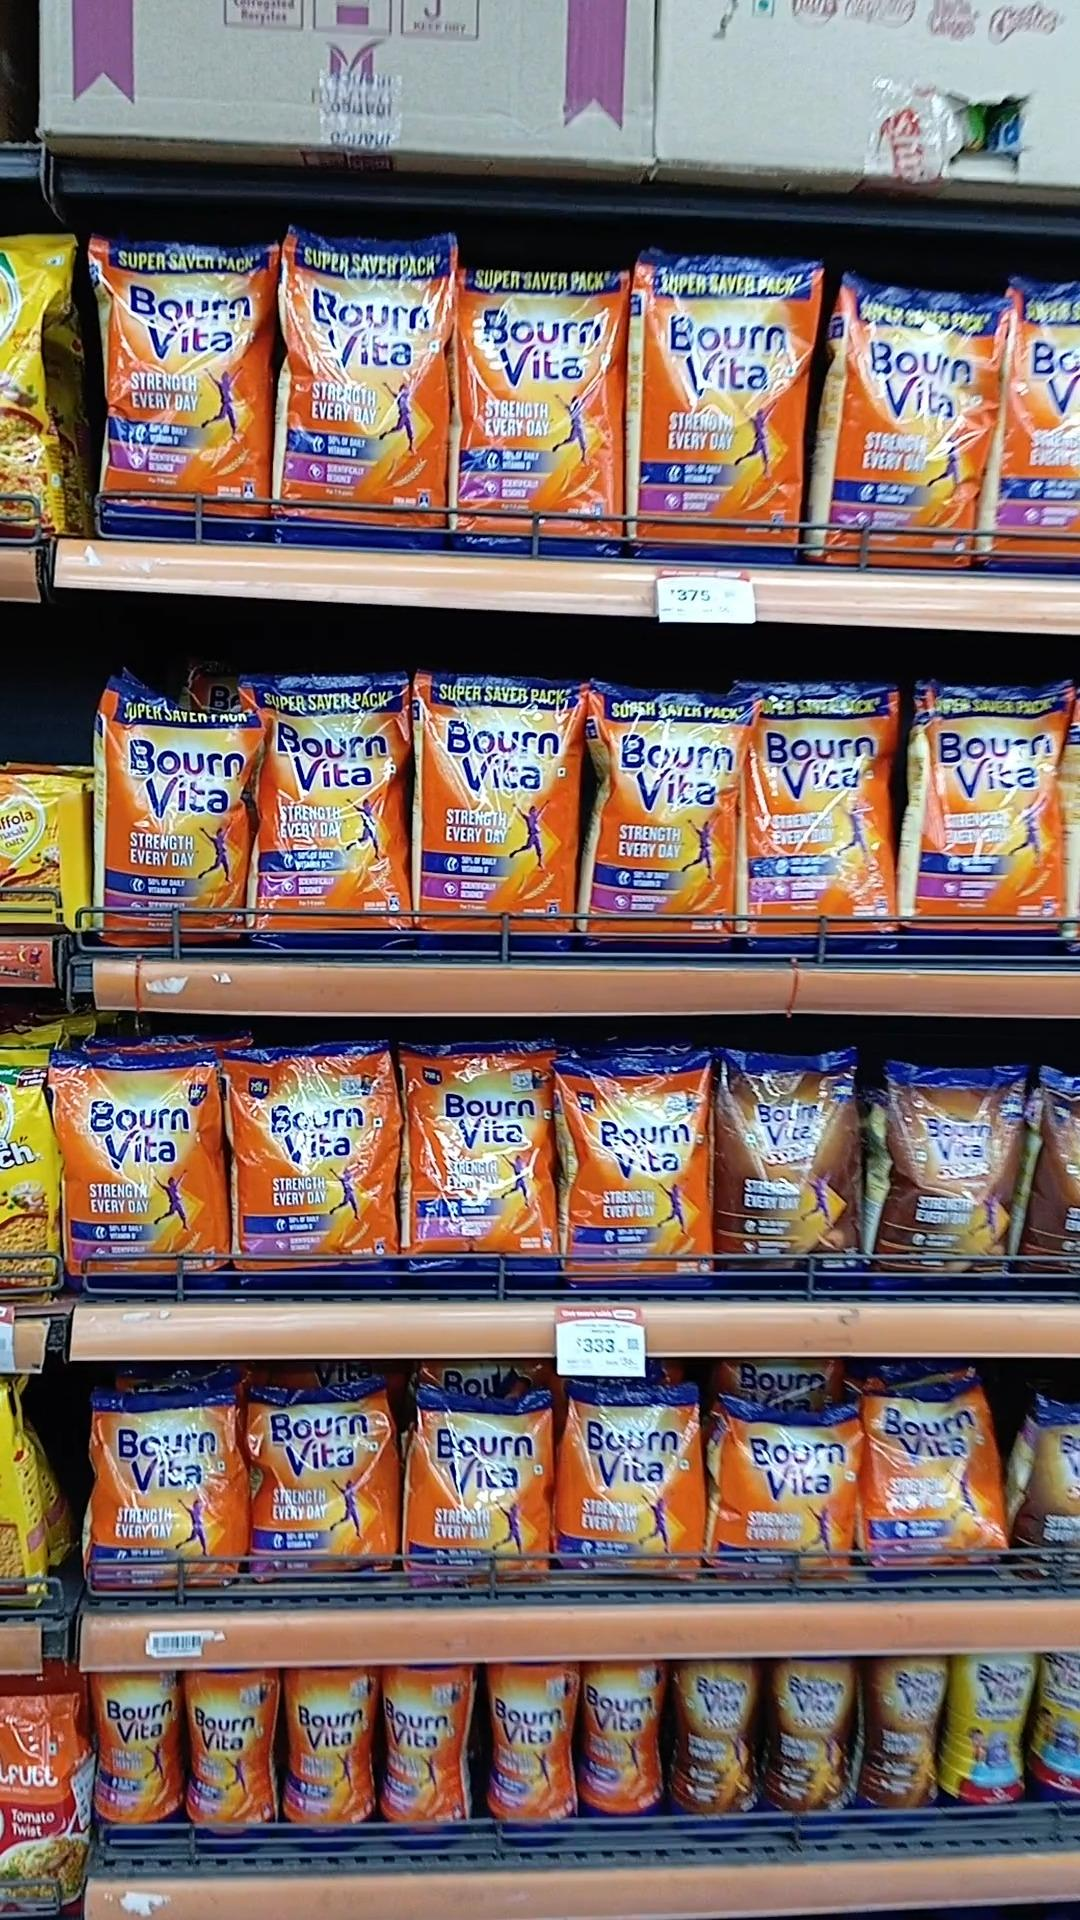BOURN_VITA_1_KG_POUCH: (634, 257, 822, 542), (287, 220, 458, 526), (426, 679, 588, 960), (105, 248, 269, 514), (833, 293, 996, 559), (464, 262, 622, 533), (257, 683, 417, 935), (750, 688, 897, 959), (595, 688, 745, 948), (915, 690, 1058, 963), (92, 696, 245, 949)
BOURN_VITA_500_G_JAR: (187, 1664, 277, 1857), (90, 1671, 177, 1855), (285, 1667, 376, 1840), (381, 1658, 468, 1834), (488, 1665, 574, 1833), (583, 1654, 658, 1828)
BOURN_VITA_500_G_POUCH: (87, 1396, 235, 1600), (559, 1382, 704, 1586), (717, 1395, 870, 1585), (245, 1390, 389, 1589), (414, 1395, 553, 1596), (877, 1381, 1002, 1585)
BOURN_VITA_750_G_POUCH: (40, 1044, 212, 1300), (231, 1047, 394, 1299), (404, 1047, 554, 1294), (566, 1051, 705, 1295)
BOURN_VITA_CHAMPS_500_G_JAR: (952, 1646, 1034, 1816)
BOURN_VITA_FIVE_STAR_MAGIC_500_G_JAR: (671, 1656, 758, 1822), (767, 1655, 855, 1821), (866, 1655, 953, 1816)
BOURN_VITA_FIVE_STAR_MAGIC_750_G_POUCH: (721, 1040, 865, 1290), (887, 1040, 1013, 1305)
